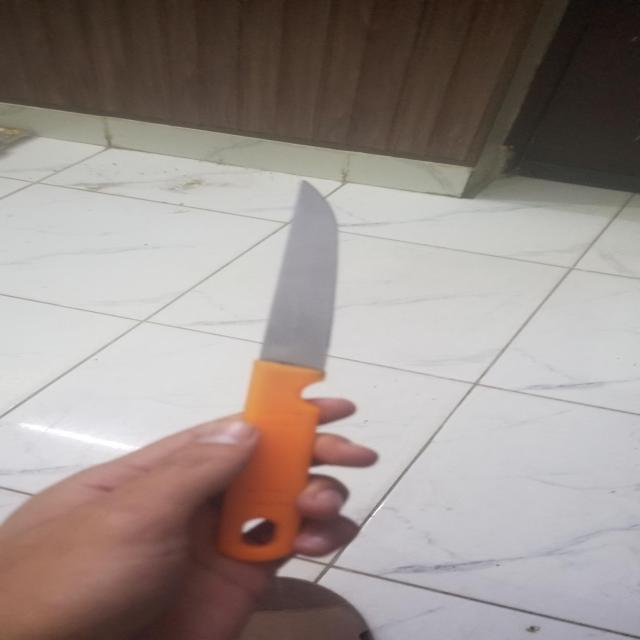Knife: (211, 178, 342, 562)
Person: (0, 397, 381, 640)
